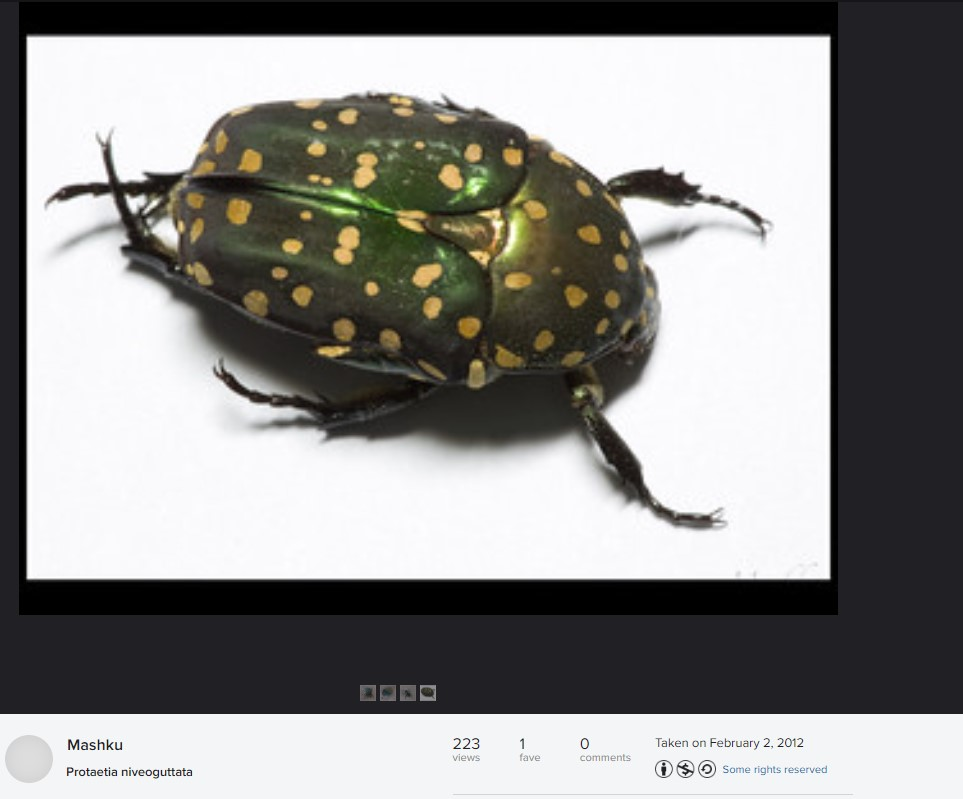Protaetia_niveoguttata: (47, 81, 775, 537)
